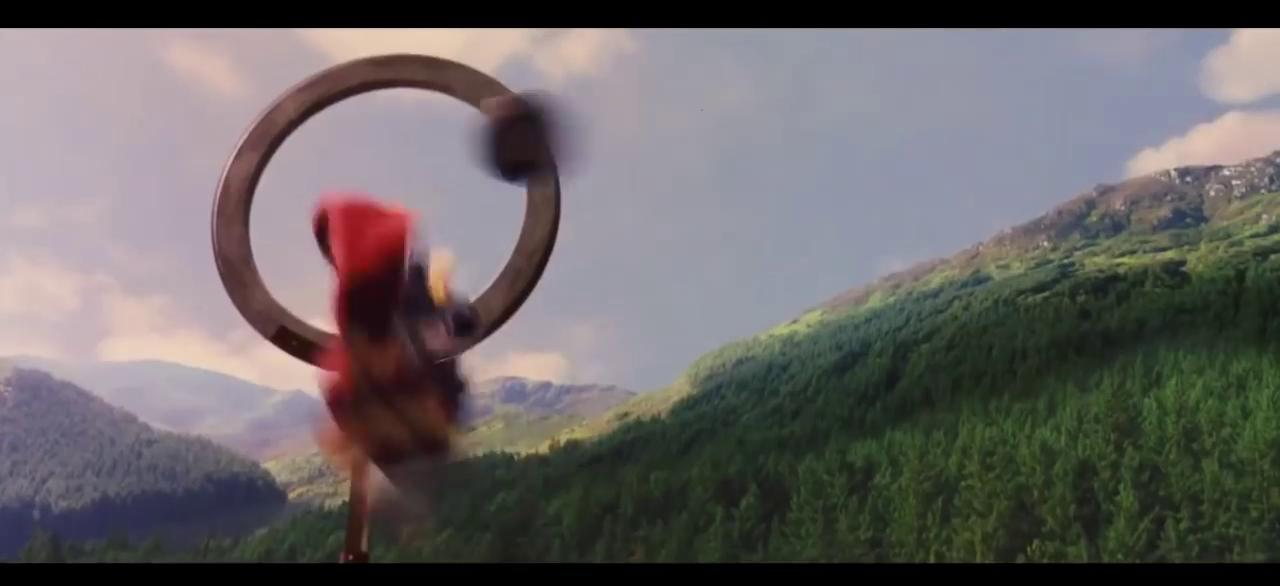quaffle: (481, 93, 562, 182)
